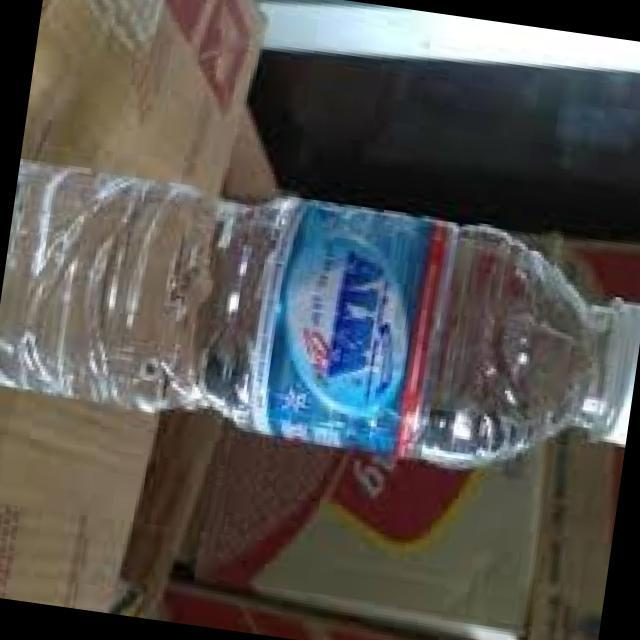good: (0, 148, 640, 544)
